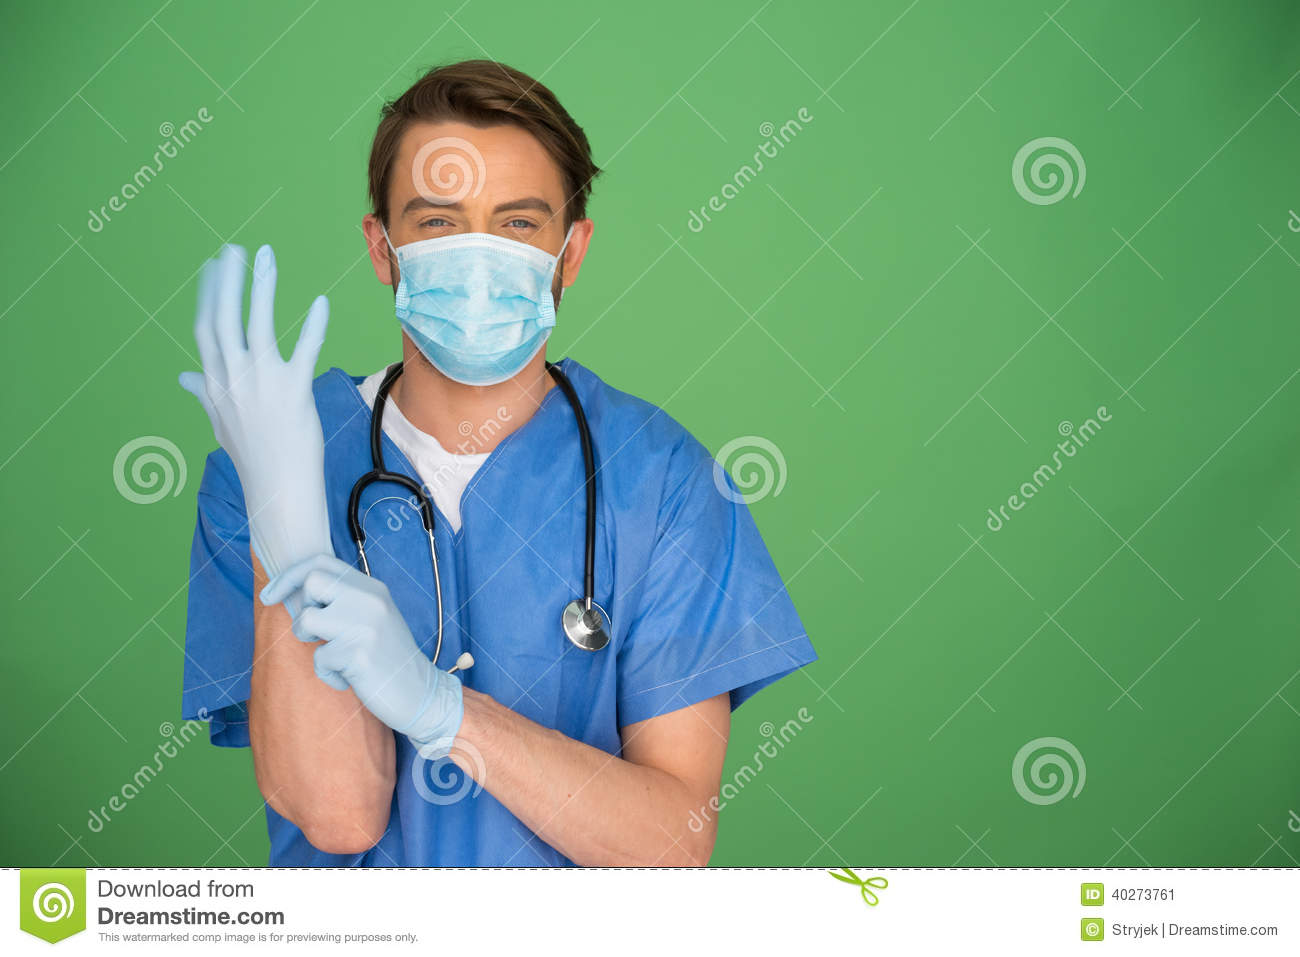mask: (383, 233, 569, 379)
